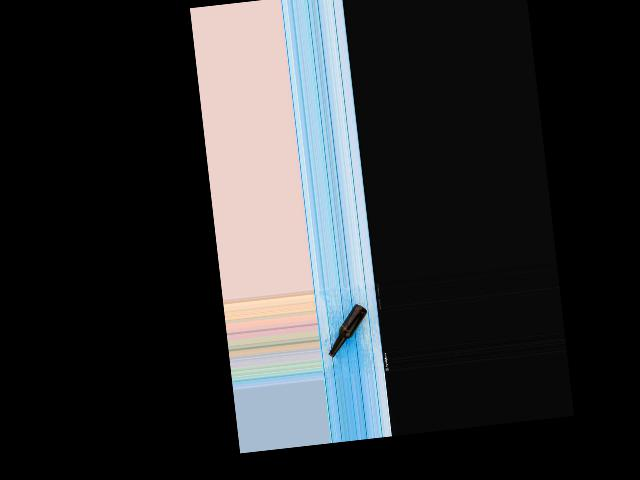beer: (323, 302, 372, 356)
